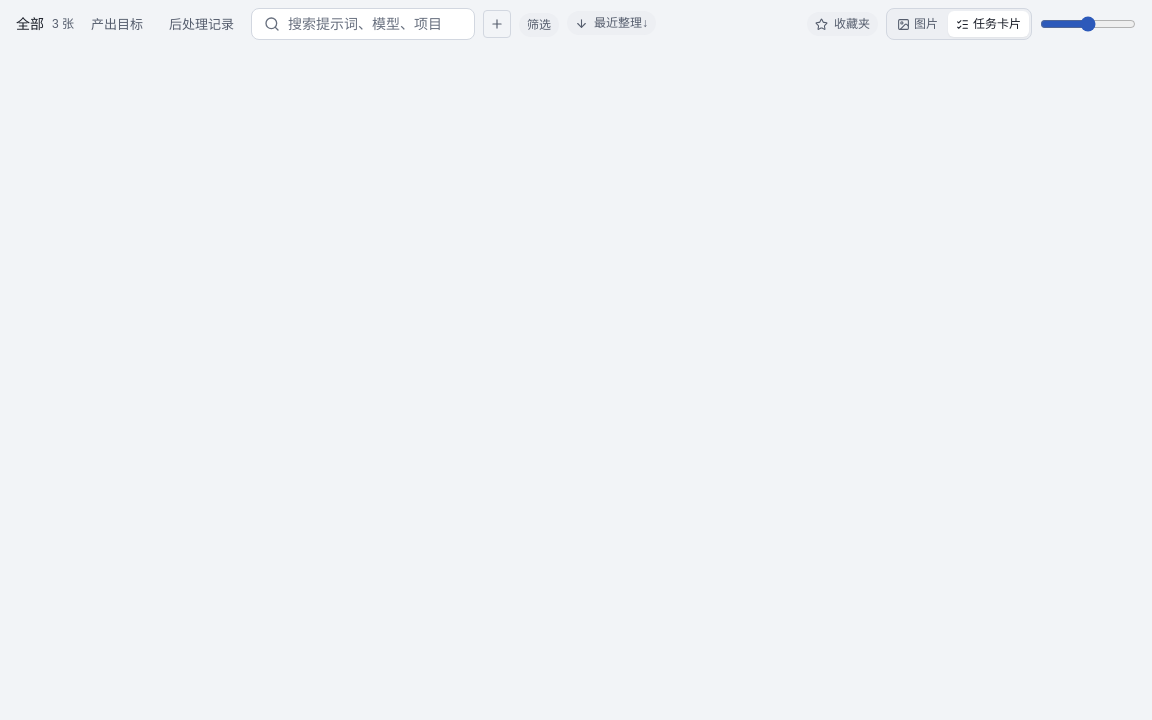
Test case: AssetLibraryToolbar › disables the pin button when the filter value is unset
This screenshot has width=1152, height=720.
Click the button "筛选": {"x": 539, "y": 24} [527,18,551,30]
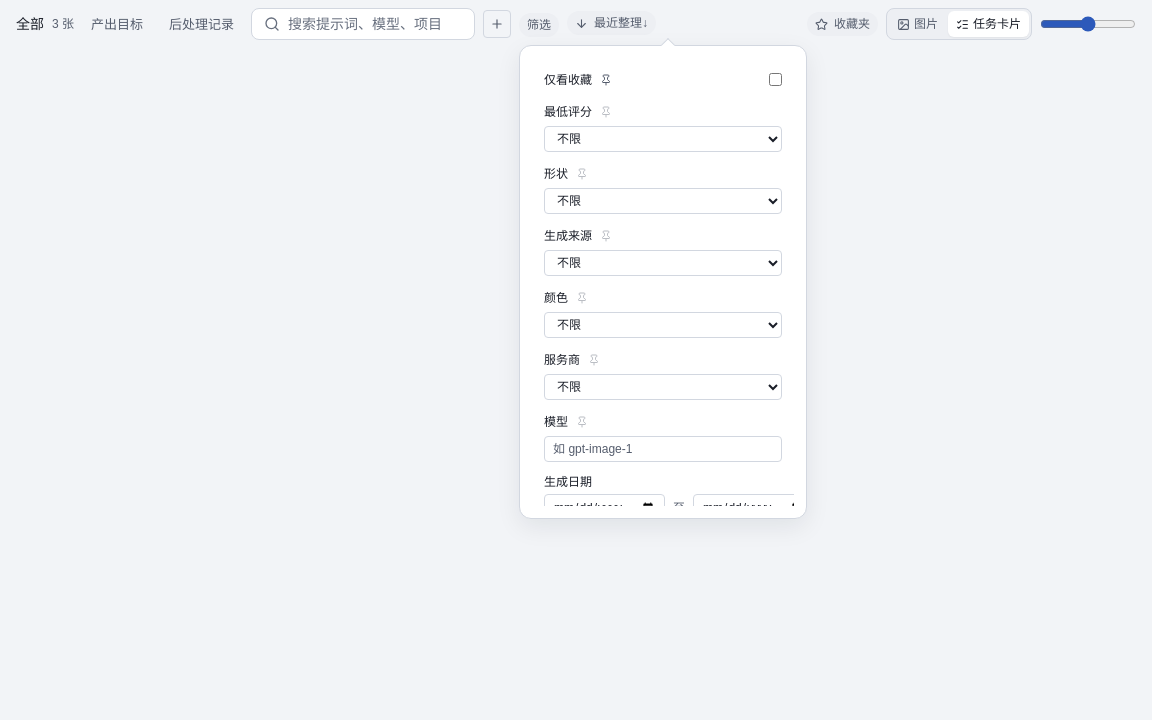
Check: the button with test id "asset-filter-pin-provider:" is disabled, box [584,350,604,370]
